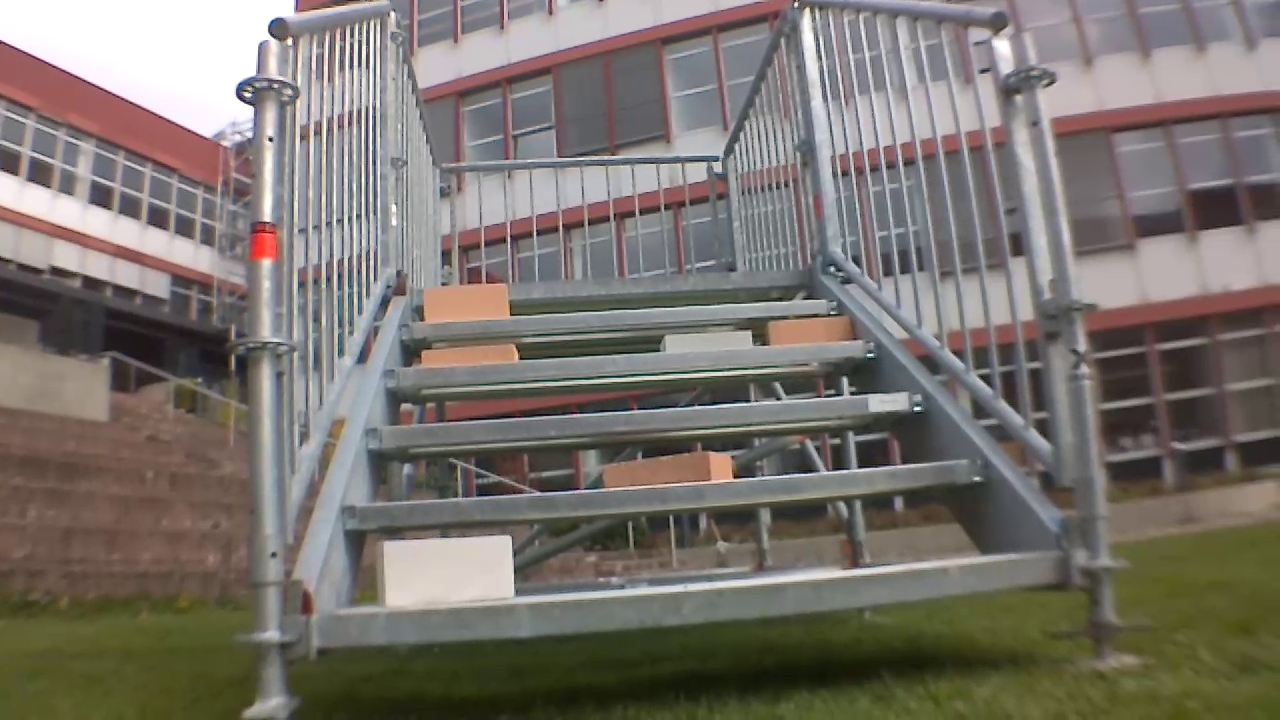brick: (383, 533, 513, 602), (599, 451, 729, 486), (416, 284, 505, 324), (415, 345, 518, 372), (766, 318, 855, 348), (660, 333, 758, 355)
edge: (306, 556, 1071, 651), (344, 457, 982, 529), (362, 392, 926, 452), (382, 339, 879, 390), (396, 298, 844, 336), (414, 268, 819, 294)
stairs: (249, 0, 1122, 688)
steps: (306, 267, 1070, 656)
